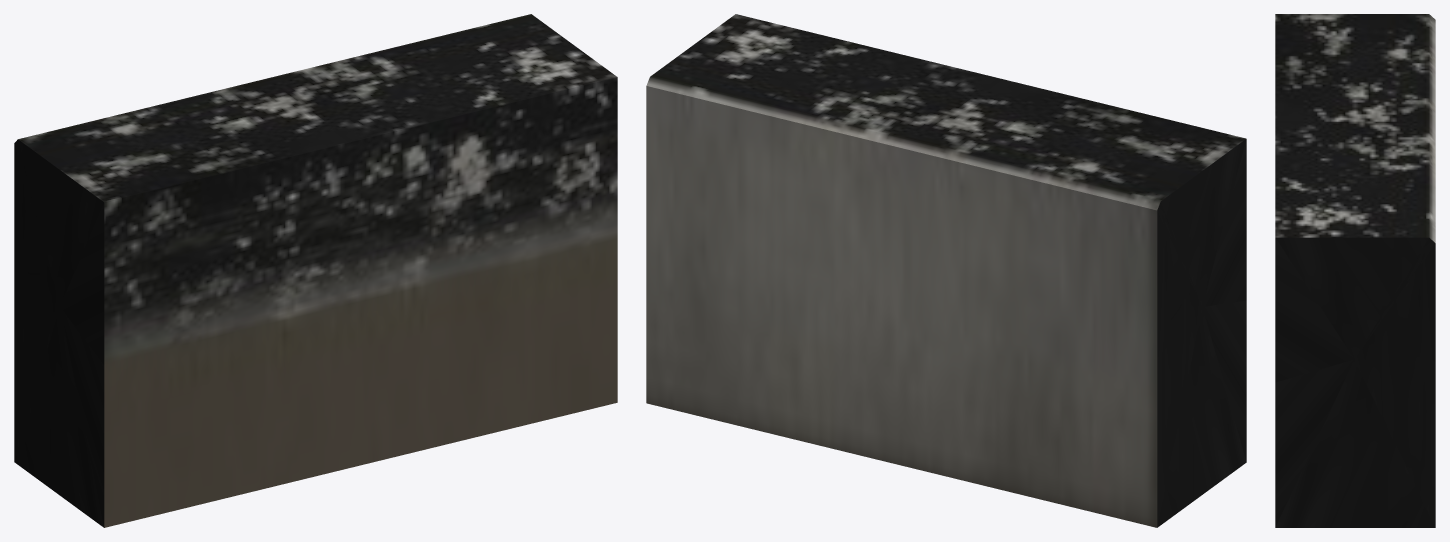
Rendered from curb_half_black_lod2_web.glb.
3 renders of one model, left to right at view 1: azimuth 30°, elevation 25°; view 2: azimuth 150°, elevation 25°; view 3: azimuth 270°, elevation 25°, orthographic. The views are drawn at different scales.
Visible parts, largest first — view 1: curb_half_black_Mesh; view 2: curb_half_black_Mesh; view 3: curb_half_black_Mesh.
Boxes of the visible parts, left/top/right/bottom form: curb_half_black_Mesh: left=14, top=14, right=617, bottom=527; curb_half_black_Mesh: left=646, top=14, right=1246, bottom=527; curb_half_black_Mesh: left=1275, top=14, right=1435, bottom=527.
Bounding box in the file's own units: 0.495 × 0.3 × 0.15.
Materials: 1 (1 with a texture image).
